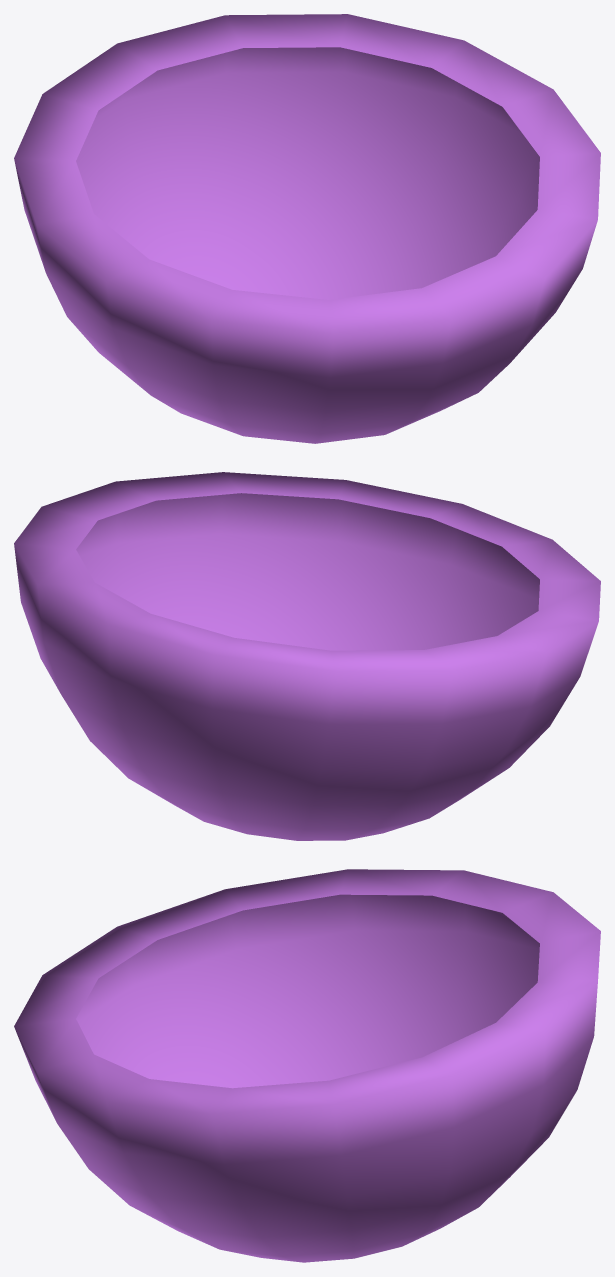
The model's file is Parpado inf der.fbx.
3 views of the same model, one above another, from view 1: azimuth 30°, elevation 25°; view 2: azimuth 150°, elevation 25°; view 3: azimuth 270°, elevation 25° (orthographic).
Parts seen in each view (by area): view 1: Parpado inf der; view 2: Parpado inf der; view 3: Parpado inf der.
Part boxes in pixels (x1,y1,x2,y2): Parpado inf der: (14, 14, 600, 443); Parpado inf der: (14, 472, 600, 840); Parpado inf der: (14, 869, 600, 1262).
Bounding box in the file's own units: 7.83 × 4.09 × 7.74.
